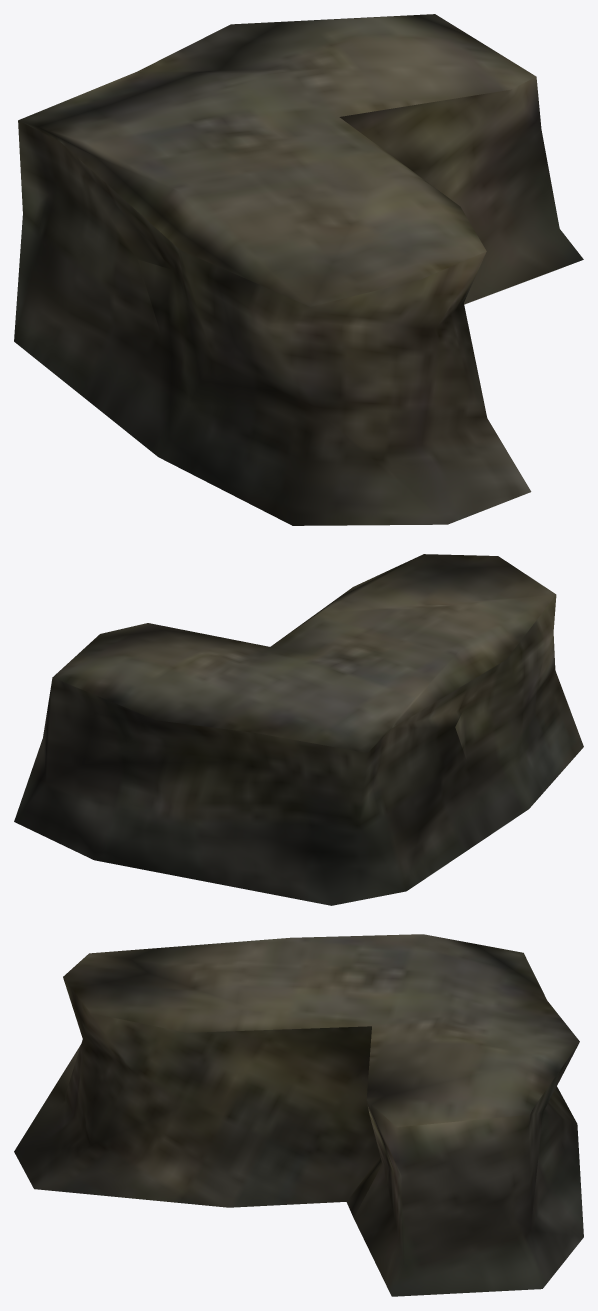
3 views of the same model, one above another, from view 1: azimuth 30°, elevation 25°; view 2: azimuth 150°, elevation 25°; view 3: azimuth 270°, elevation 25° (orthographic). The views are drawn at different scales.
Visible parts, largest first — view 1: cliff3; view 2: cliff3; view 3: cliff3.
Part boxes in pixels (box(x1,y1,x2,y2)): cliff3: box(14, 14, 583, 525); cliff3: box(14, 554, 583, 905); cliff3: box(14, 934, 583, 1296).
Bounding box in the file's own units: 17.58 × 7.26 × 20.91.
1 material, 1 textured.
